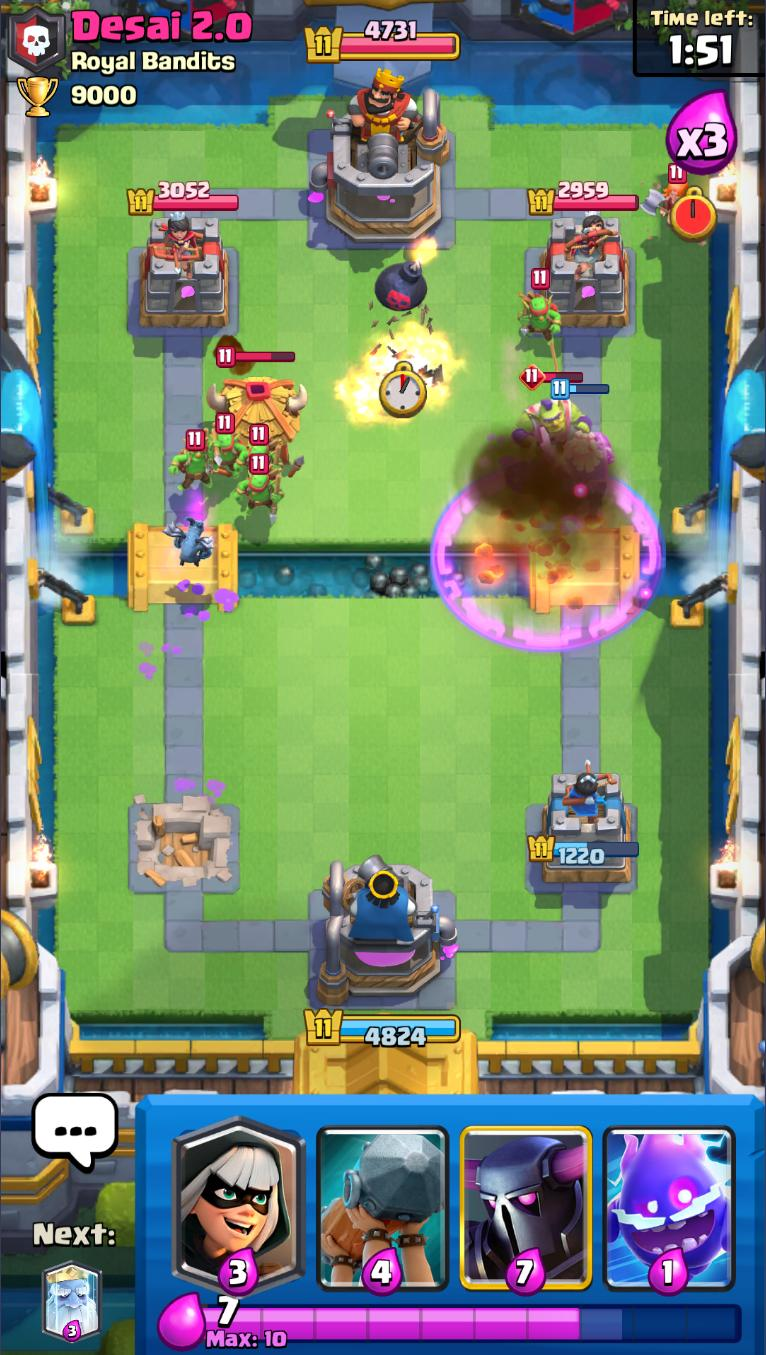BanditDeck: (165, 1096, 307, 1295)
BattleRamDeck: (311, 1097, 454, 1295)
ElectroSpiritDeck: (600, 1097, 744, 1294)
Elixir: (202, 1295, 745, 1352)
EnemyTower: (137, 214, 231, 333), (538, 214, 632, 331)
EvoGoblinCageGoblin: (515, 365, 594, 454)
GoblinHut: (203, 347, 310, 481)
KingTower: (309, 80, 454, 248)
KingTowerHP: (304, 27, 462, 65)
MyKingHP: (302, 1006, 463, 1051)
MyKingTower: (318, 855, 460, 1009)
MyMinion: (165, 514, 216, 568)
MyPrincessTower: (526, 768, 642, 889)
MyPrincessTowerBrocken: (126, 794, 242, 899)
MyPrincessTowerHP: (527, 835, 642, 867)
MyRoyaleGhost: (540, 380, 611, 495)
PekkaDeck: (454, 1097, 600, 1294)
PrincessTower: (549, 214, 604, 275), (152, 214, 202, 273)
Rage: (422, 457, 673, 658)
RoyaleGhostNext: (43, 1263, 103, 1344)
SpearGoblin: (171, 423, 219, 498), (236, 452, 284, 527), (513, 269, 560, 342), (232, 421, 280, 488), (201, 412, 246, 474)
TowerPrincessHP: (127, 180, 241, 217), (527, 181, 640, 216)
Valkyrie: (640, 163, 692, 235)
